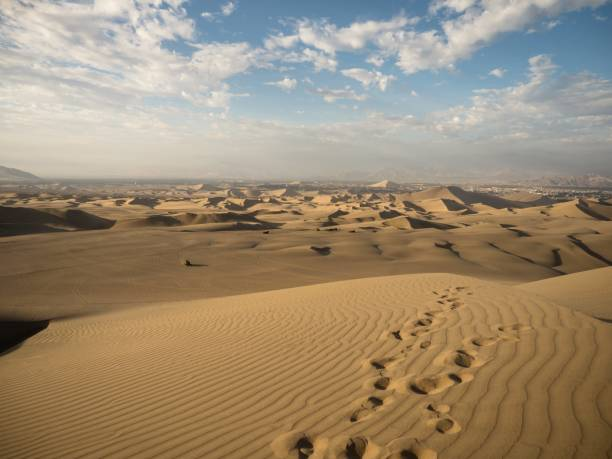human_foot_print: (349, 289, 462, 421), (349, 291, 459, 421), (368, 310, 445, 387), (349, 345, 412, 421), (349, 345, 411, 421), (271, 431, 437, 458), (437, 324, 530, 368), (363, 339, 430, 390), (364, 340, 430, 390), (271, 431, 383, 458), (369, 323, 433, 369), (366, 327, 428, 371), (391, 309, 445, 352), (349, 371, 392, 422), (383, 309, 445, 342), (381, 309, 445, 340), (383, 310, 443, 340), (271, 430, 327, 458), (408, 371, 472, 394), (366, 344, 413, 374), (470, 324, 531, 347), (326, 435, 381, 458), (382, 436, 437, 458), (432, 346, 486, 368), (398, 324, 436, 355), (402, 310, 445, 337), (401, 311, 444, 337), (425, 403, 460, 433), (349, 395, 387, 422), (432, 286, 472, 309), (398, 315, 433, 340), (469, 332, 518, 348), (410, 308, 446, 328), (451, 349, 484, 367), (362, 370, 391, 390), (435, 416, 460, 433), (368, 355, 397, 369), (433, 286, 469, 297), (379, 325, 405, 340), (432, 285, 471, 295), (497, 323, 532, 334), (471, 335, 501, 346), (424, 402, 449, 414), (437, 297, 462, 309), (372, 375, 390, 389), (444, 296, 463, 309), (413, 317, 434, 328), (449, 286, 472, 294), (409, 328, 430, 336), (399, 344, 414, 355), (424, 309, 444, 317), (390, 330, 403, 341), (419, 340, 432, 350), (449, 300, 462, 309), (454, 286, 467, 291), (437, 299, 446, 305), (439, 293, 448, 299), (431, 290, 440, 295)
